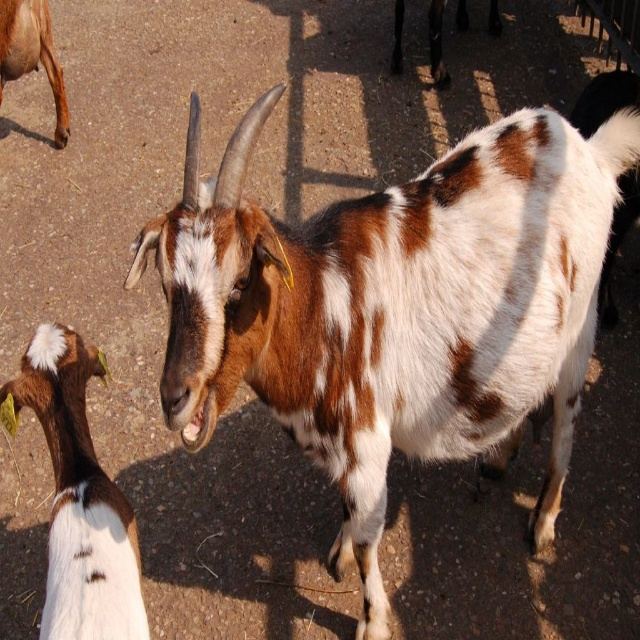Goat: (126, 89, 640, 639), (0, 317, 148, 639)
